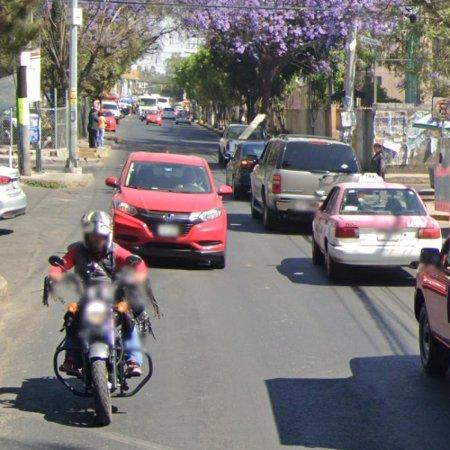motorcycles: (54, 269, 153, 427)
